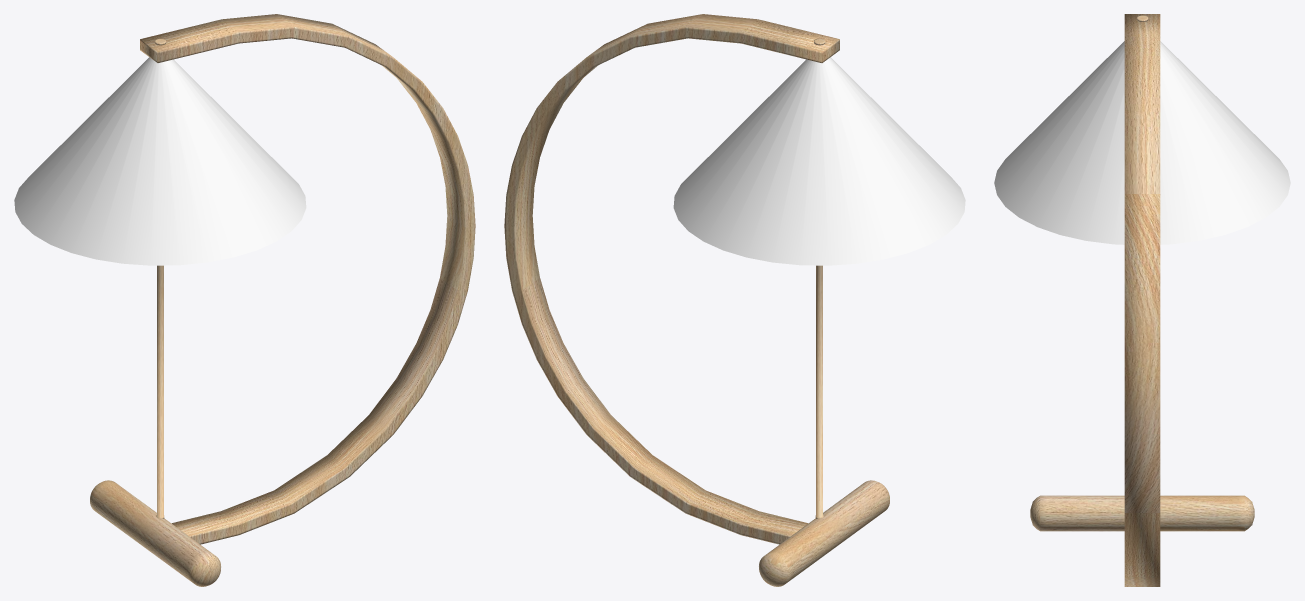
Rendered from lamp3.gltf.
The picture shows the model from 3 angles, left to right: view 1: azimuth 30°, elevation 25°; view 2: azimuth 150°, elevation 25°; view 3: azimuth 270°, elevation 25°; orthographic projection.
Parts seen in each view (by area): view 1: Lamp Head, Lamp holder, Steel Rod; view 2: Lamp Head, Lamp holder, Steel Rod; view 3: Lamp Head, Lamp holder.
Part boxes in pixels (box(x1,y1,x2,y2)): Lamp Head: box(14, 57, 306, 265); Lamp holder: box(90, 14, 475, 586); Steel Rod: box(154, 38, 165, 518); Lamp Head: box(673, 57, 965, 265); Lamp holder: box(504, 14, 889, 586); Steel Rod: box(814, 38, 825, 518); Lamp Head: box(994, 41, 1290, 244); Lamp holder: box(1030, 14, 1254, 586).
Bounding box in the file's own units: 0.283 × 0.3168 × 0.1656.
Materials: 3 (1 with a texture image).
